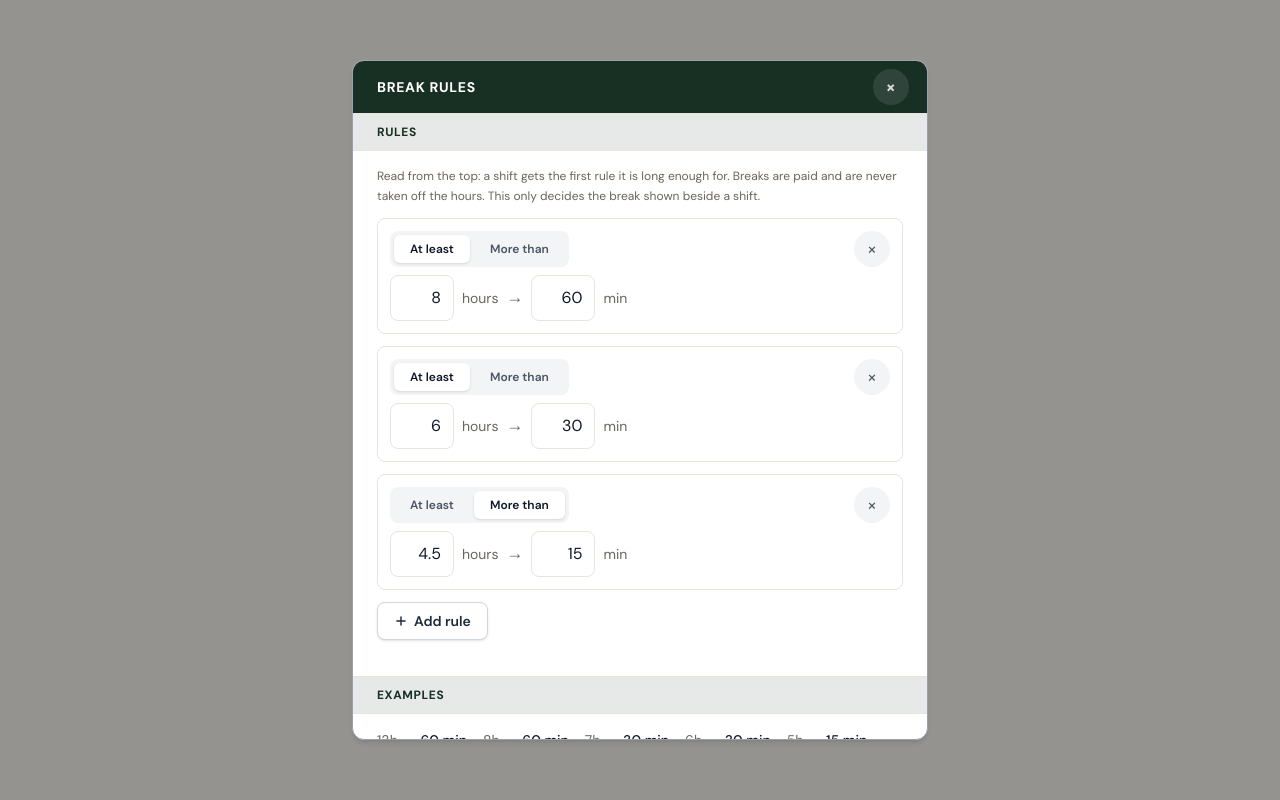
Test: BreakRulesModal › will not save two rungs that say the same thing
Replace the text in the 2nd field named "Hours" with "8" at (422, 426), box [390,403,454,449]
(page scrolled)
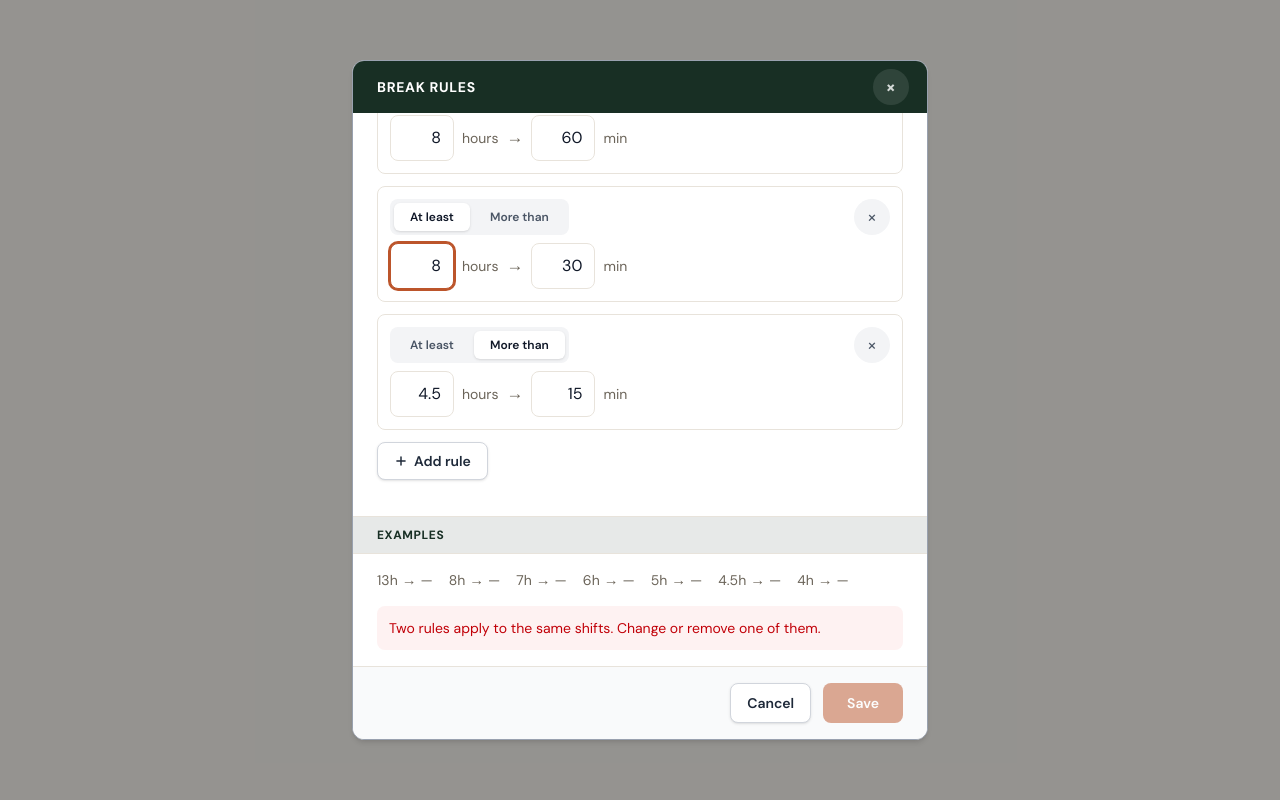
expect the text "Two rules apply to the same shifts. Change or remove one of them." is shown: met, box [377,606,903,650]
expect the button "Save" is disabled: met, box [823,683,903,723]
